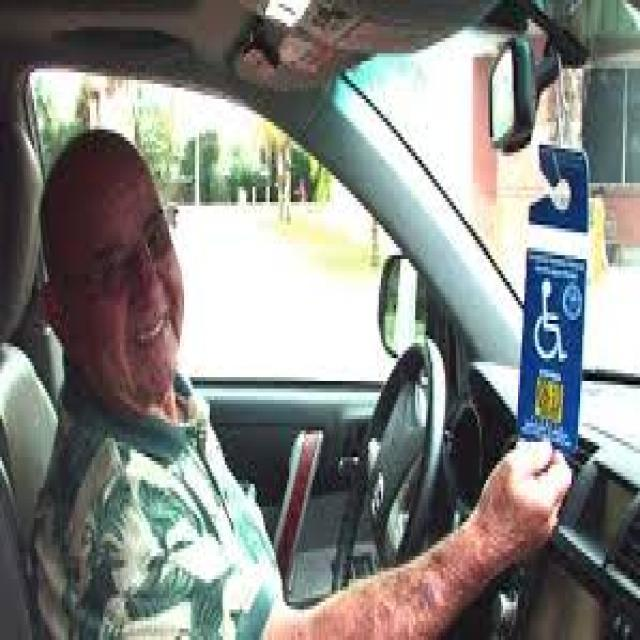symbol_of_access: (534, 276, 570, 366)
